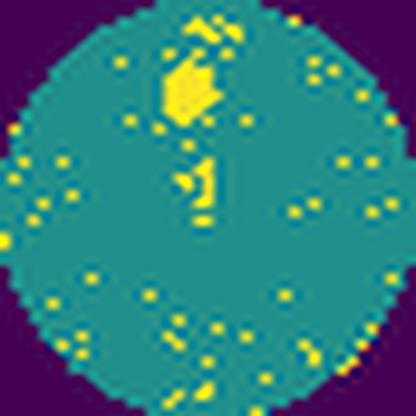Loc: (156, 48, 225, 128), (189, 156, 221, 210)
